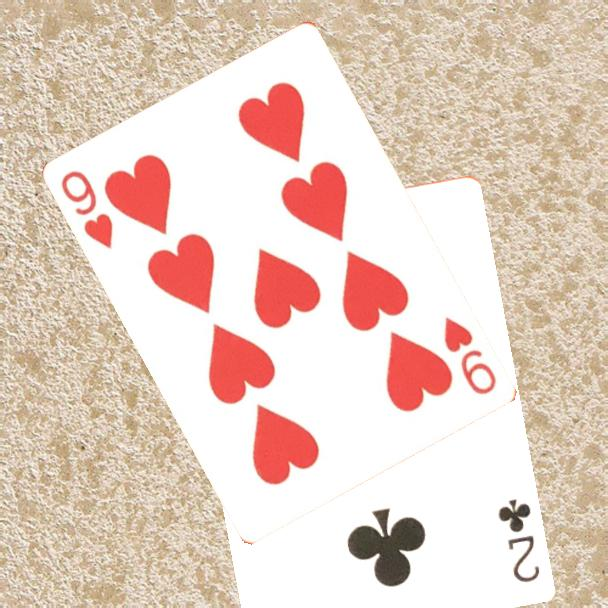c02: (493, 495, 542, 585)
h09: (441, 313, 501, 398), (58, 167, 117, 252)
